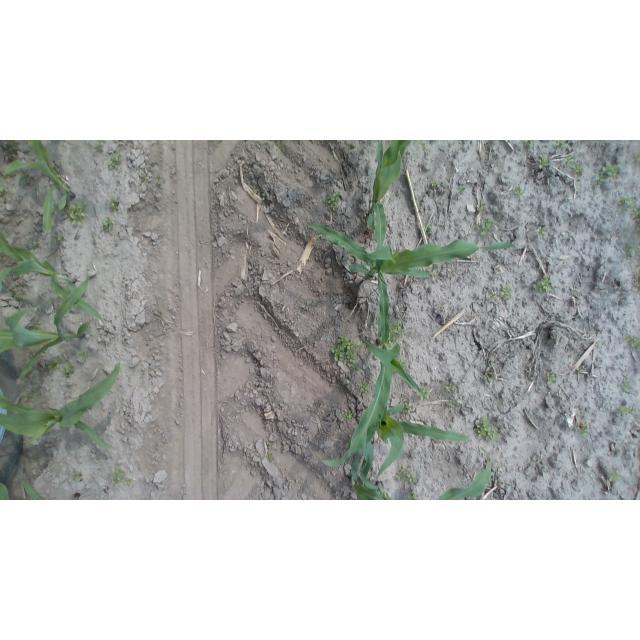Maize: (301, 211, 524, 345), (317, 269, 419, 470), (341, 394, 475, 483), (0, 362, 122, 451), (1, 228, 108, 328), (1, 278, 91, 382), (2, 141, 75, 236), (351, 452, 494, 500), (368, 141, 410, 256), (437, 449, 495, 499), (0, 479, 52, 499)
Weeds: (331, 333, 362, 371), (475, 417, 501, 443), (595, 162, 621, 186), (69, 201, 88, 227), (533, 276, 556, 295), (397, 467, 419, 486), (111, 466, 132, 485), (566, 157, 585, 176), (324, 190, 340, 211), (479, 218, 496, 236), (108, 152, 124, 170), (389, 320, 403, 340), (46, 357, 64, 372), (21, 389, 40, 403), (616, 405, 638, 417), (619, 196, 635, 212), (101, 215, 115, 233), (624, 334, 639, 350), (417, 385, 433, 400), (7, 140, 21, 156), (577, 423, 591, 438), (61, 365, 75, 380), (608, 469, 623, 483), (18, 170, 31, 186), (108, 197, 121, 212), (538, 156, 551, 171), (501, 286, 514, 300), (547, 371, 558, 386), (629, 201, 637, 221), (625, 244, 637, 257), (71, 470, 84, 482), (401, 402, 414, 414), (8, 290, 22, 301), (536, 226, 548, 238), (264, 451, 276, 463), (77, 349, 89, 361), (620, 379, 631, 392), (359, 383, 371, 394), (554, 140, 570, 148), (521, 140, 535, 149), (475, 203, 486, 214), (513, 185, 524, 196), (444, 384, 455, 395), (426, 265, 436, 277), (431, 179, 442, 189), (423, 223, 434, 233), (30, 323, 42, 332), (406, 491, 419, 499), (485, 373, 495, 383), (55, 233, 65, 243), (400, 358, 409, 369), (345, 411, 354, 421), (95, 141, 105, 150), (457, 184, 466, 194), (448, 400, 457, 409), (156, 179, 165, 188), (633, 153, 640, 164), (140, 174, 148, 183), (578, 366, 587, 374), (277, 141, 284, 150), (31, 241, 40, 248), (116, 140, 128, 145), (490, 290, 497, 298), (0, 173, 4, 181)
